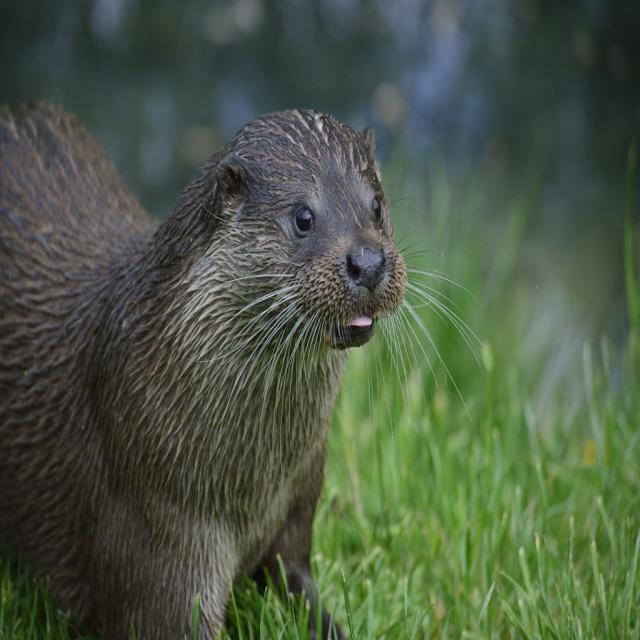otter: (1, 111, 409, 640)
